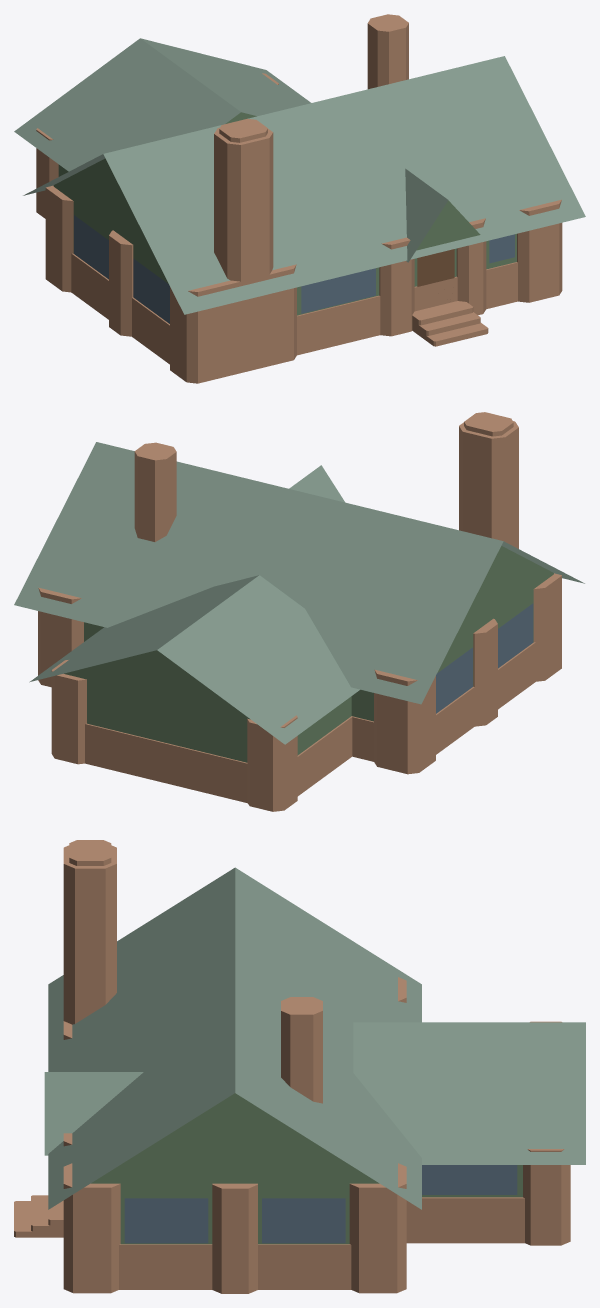
Rendered from grand-canyon-phantom-ranch.glb.
The picture shows the model from 3 angles, top to bottom: view 1: azimuth 30°, elevation 25°; view 2: azimuth 150°, elevation 25°; view 3: azimuth 270°, elevation 25°; orthographic projection. The views are drawn at different scales.
Parts seen in each view (by area): view 1: Phantom Ranch Canteen; view 2: Phantom Ranch Canteen; view 3: Phantom Ranch Canteen.
Part boxes in pixels (x1,y1,x2,y2): Phantom Ranch Canteen: [14, 14, 585, 383]; Phantom Ranch Canteen: [14, 412, 584, 811]; Phantom Ranch Canteen: [14, 840, 585, 1293].
Bounding box in the file's own units: 14 × 7.75 × 15.
